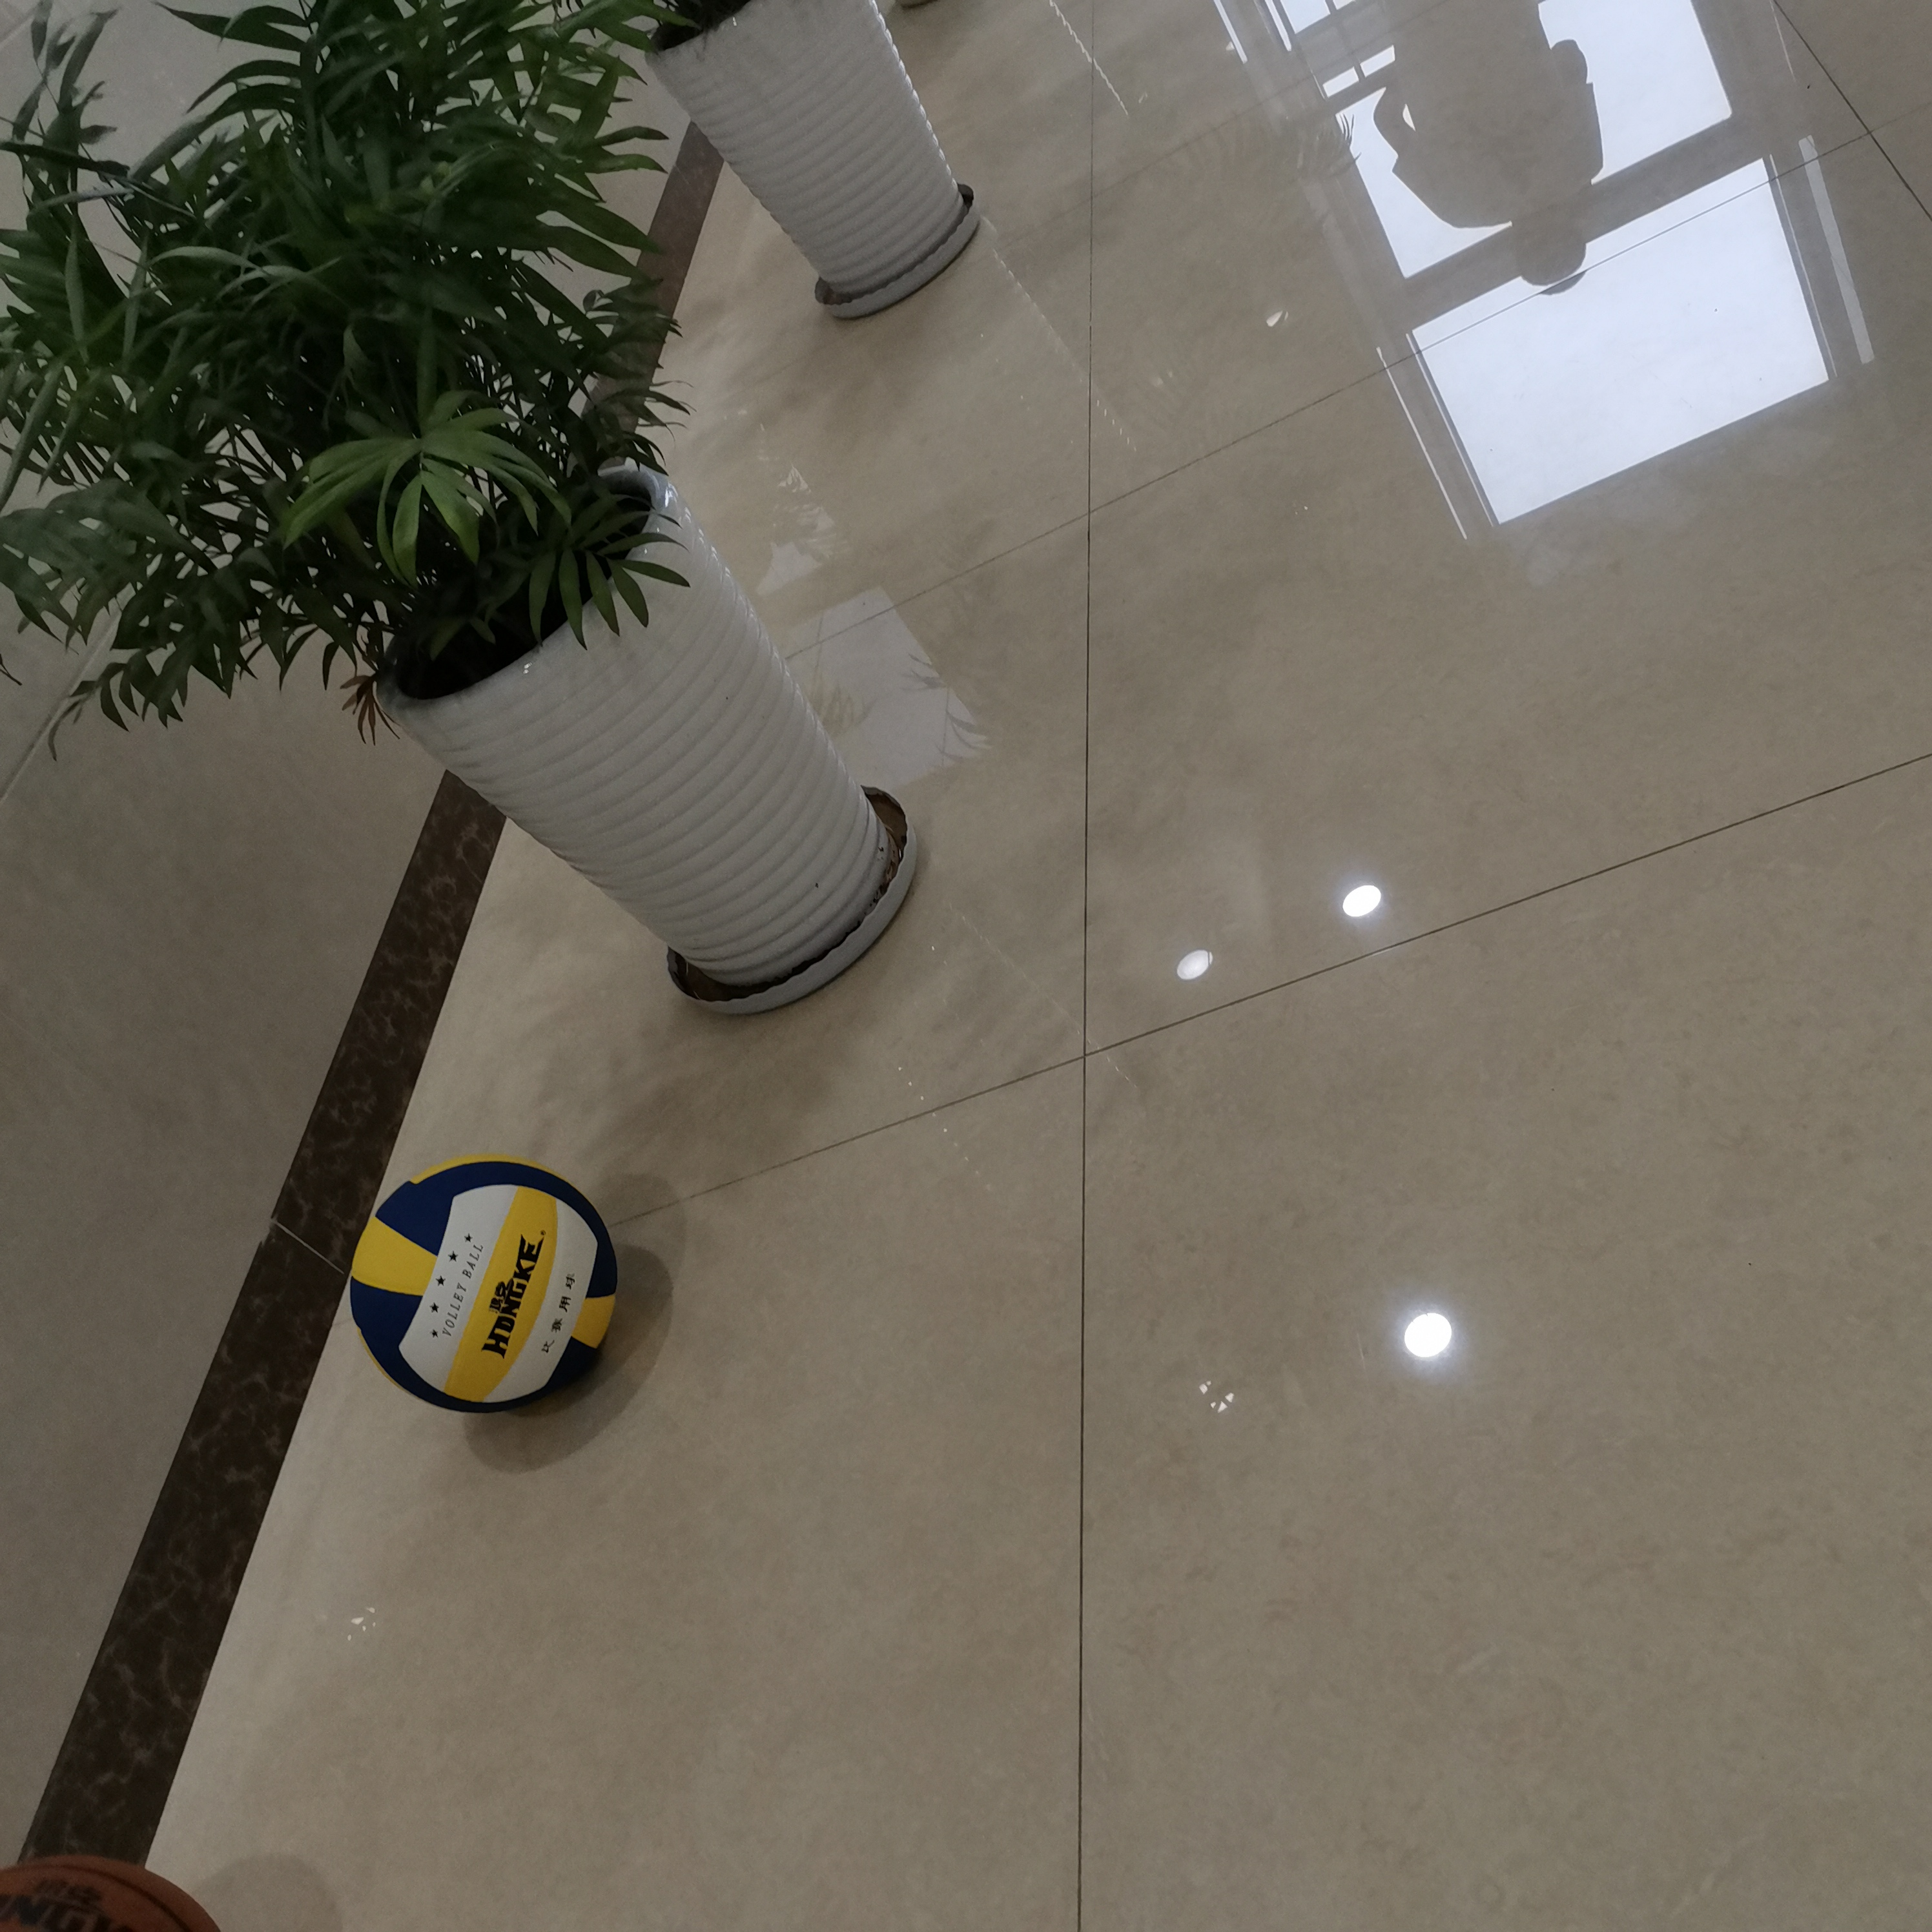volleyball: (349, 1159, 619, 1414)
